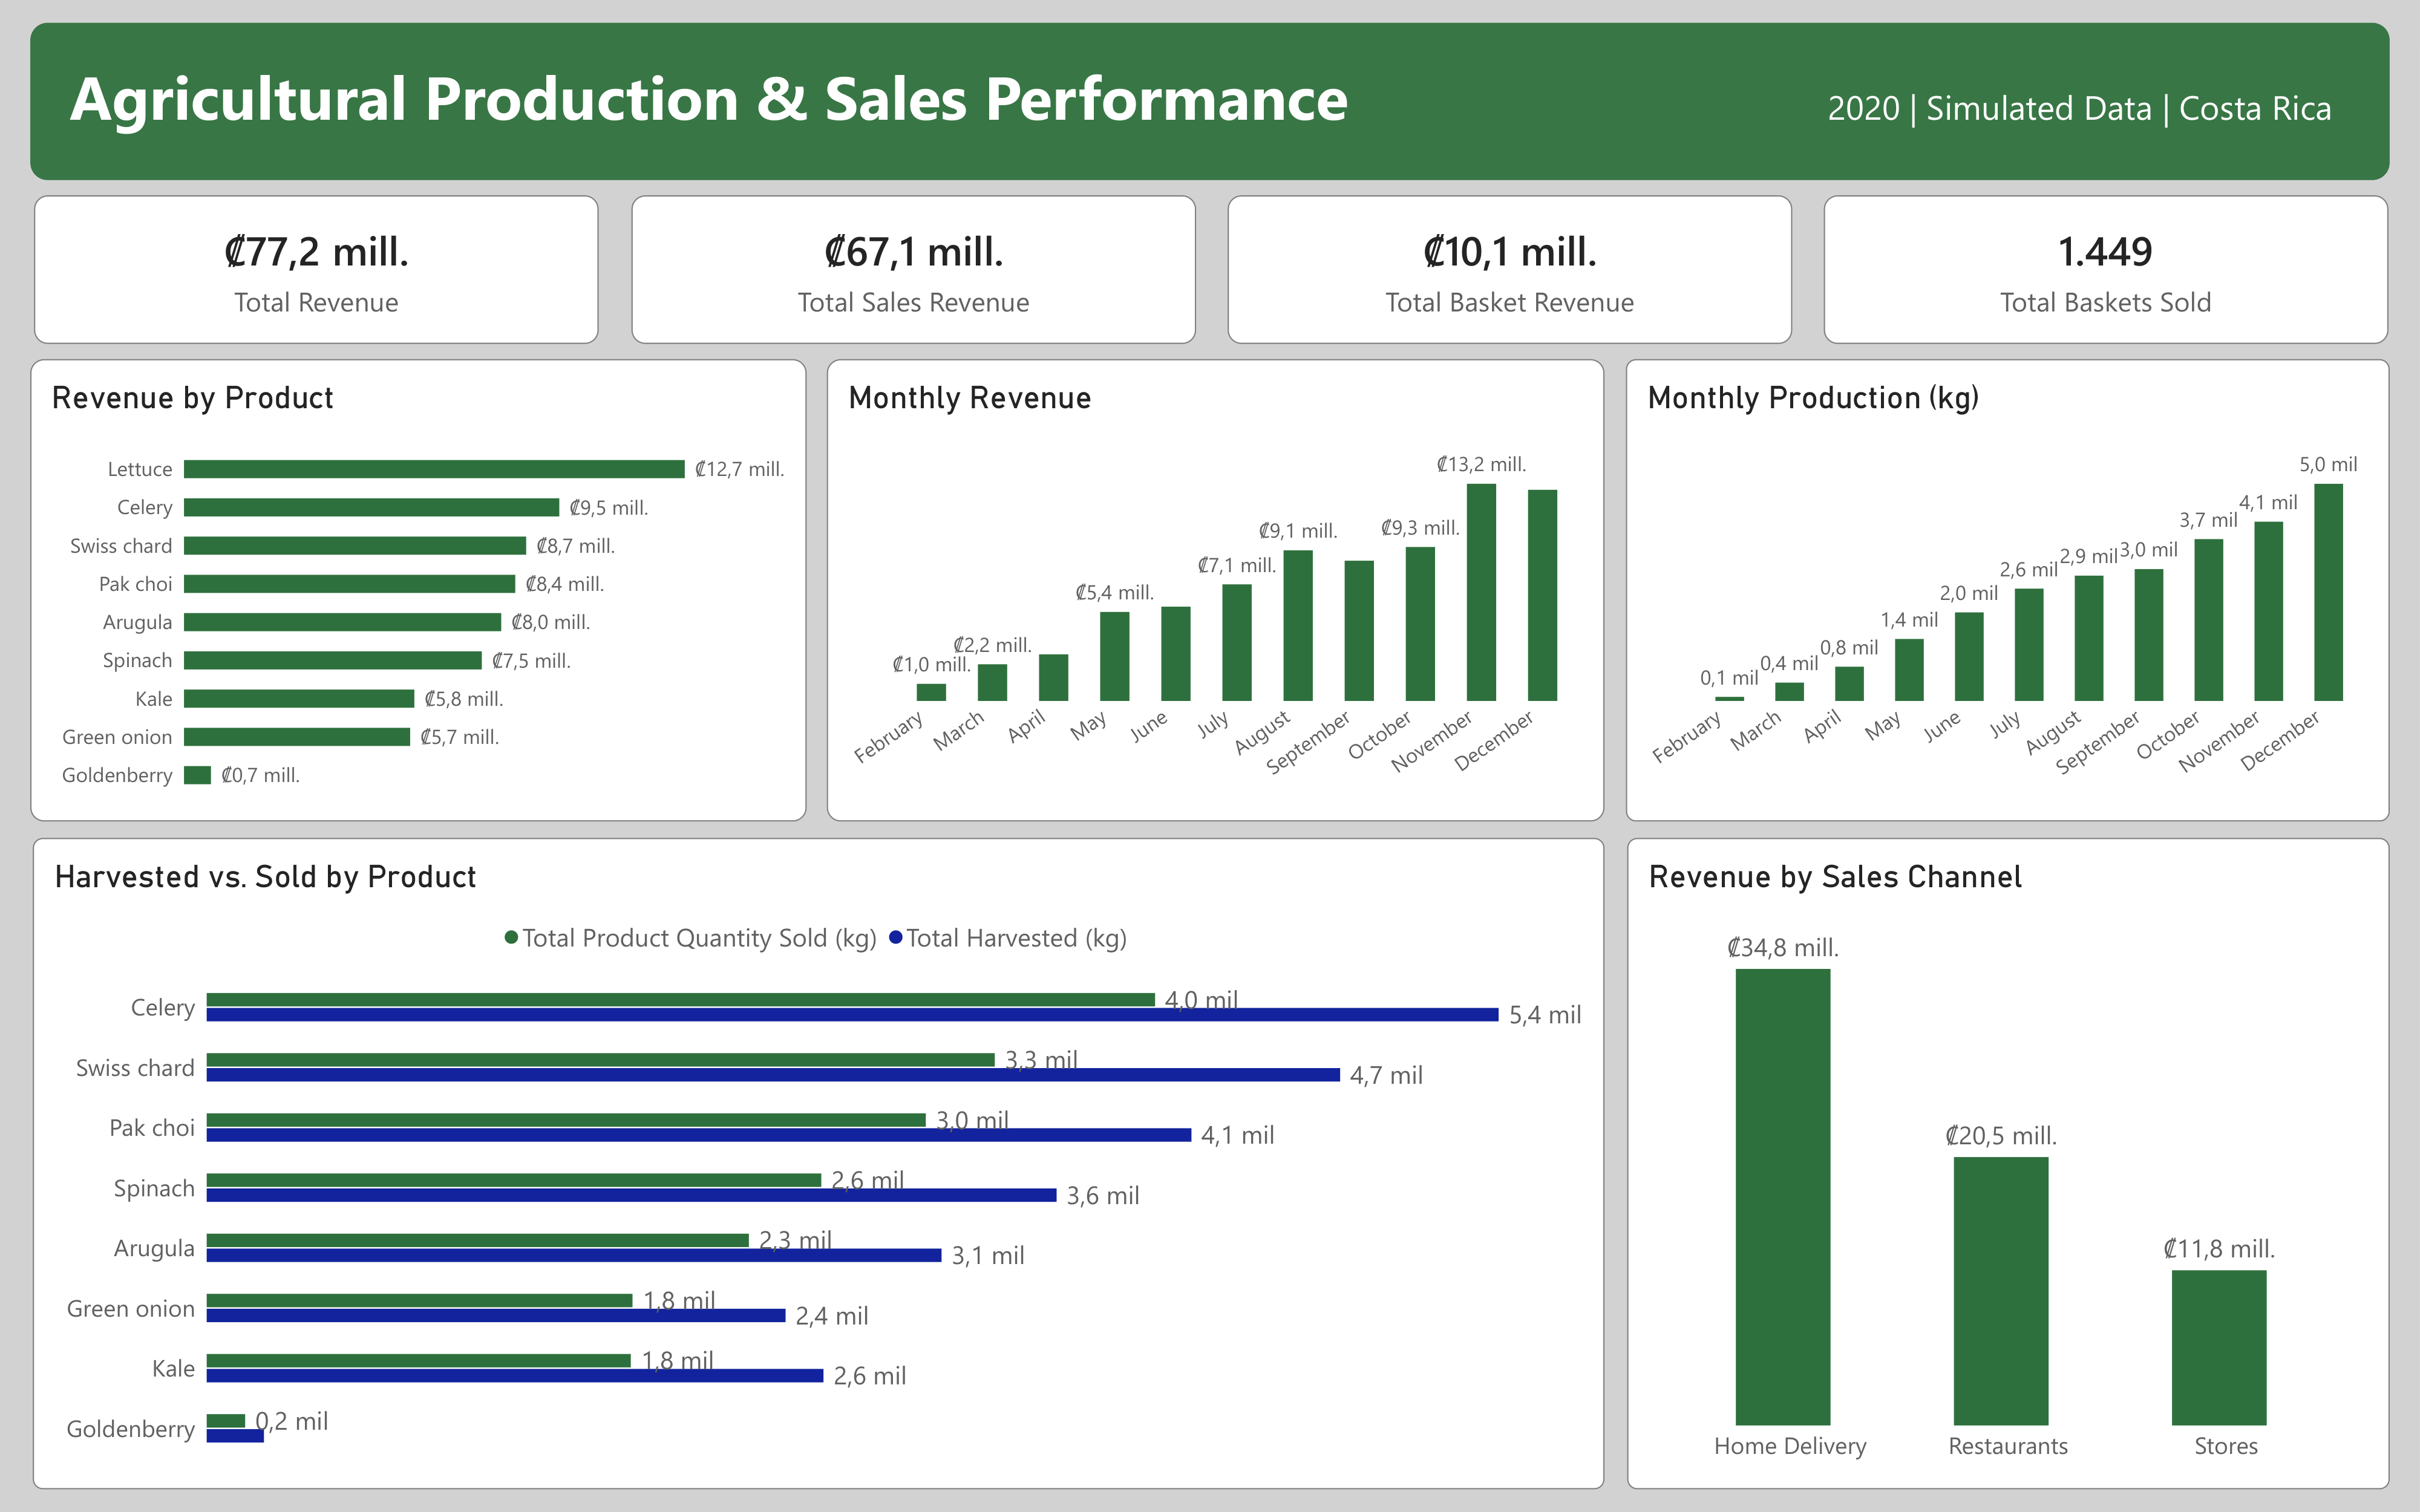

Layout of this report page (visuals, bound fields, positions):
{"tool":"powerbi","page":{"name":"Dashboard","canvas":[1920,1200],"ordinal":0},"visuals":[{"type":"card","fields":{"Values":["Production_2020.Total Revenue"]},"box":[27.4,155,448,118],"z":0},{"type":"card","fields":{"Values":["Production_2020.Total Sales Revenue"]},"box":[500.7,155,448,118],"z":1000},{"type":"card","fields":{"Values":["Production_2020.Total Basket Revenue"]},"box":[973.9,155,448,118],"z":2000},{"type":"card","fields":{"Values":["Production_2020.Total Baskets Sold"]},"box":[1447.2,154.6,448,118],"z":3000},{"type":"clusteredBarChart","title":"Revenue by Product","fields":{"Category":["Products.Product1"],"Y":["Production_2020.Total Sales Revenue"]},"box":[24.4,285.1,615.2,367.4],"z":4000},{"type":"shape","box":[23.8,17.9,1871.7,125],"z":5000},{"type":"textbox","box":[55,43.2,1102.5,72.5],"z":6000},{"type":"clusteredColumnChart","title":"Monthly Revenue","fields":{"Category":["Calendar.Month (English)"],"Y":["Production_2020.Total Revenue"]},"box":[655.9,285.1,617.4,367.4],"z":7000},{"type":"clusteredBarChart","title":"Harvested vs. Sold by Product","fields":{"Category":["Products.Product1"],"Y":["Production_2020.Total Product Quantity Sold (kg)","Production_2020.Total Harvested (kg)"]},"box":[25.5,664.6,1247.5,517.5],"z":8000},{"type":"clusteredColumnChart","title":"Monthly Production (kg) ","fields":{"Category":["Calendar.Month (English)"],"Y":["Production_2020.Total Harvested (kg)"]},"box":[1289.6,285.1,606.5,367.4],"z":9000},{"type":"clusteredColumnChart","title":"Revenue by Sales Channel","fields":{"Category":["Sales_2020_generated.Sales Channel Name"],"Y":["Production_2020.Total Sales Revenue"]},"box":[1290.5,664.6,605,517.5],"z":10000},{"type":"textbox","box":[1450,66,420,50],"z":11000}]}

Visuals, with their boxes in screenshot pixels (x1, y1, x2, y2), scaled from the page's 1920x1200 canvas onto the 2420x1512 screenshot:
card - Production_2020.Total Revenue: x1=34, y1=195, x2=599, y2=344
card - Production_2020.Total Sales Revenue: x1=631, y1=195, x2=1195, y2=344
card - Production_2020.Total Basket Revenue: x1=1228, y1=195, x2=1792, y2=344
card - Production_2020.Total Baskets Sold: x1=1824, y1=195, x2=2389, y2=344
"Revenue by Product" clusteredBarChart: x1=31, y1=359, x2=806, y2=822
shape: x1=30, y1=22, x2=2389, y2=180
textbox: x1=70, y1=54, x2=1459, y2=146
"Monthly Revenue" clusteredColumnChart: x1=826, y1=359, x2=1605, y2=822
"Harvested vs. Sold by Product" clusteredBarChart: x1=32, y1=838, x2=1604, y2=1490
"Monthly Production (kg) " clusteredColumnChart: x1=1626, y1=359, x2=2390, y2=822
"Revenue by Sales Channel" clusteredColumnChart: x1=1627, y1=838, x2=2389, y2=1490
textbox: x1=1828, y1=83, x2=2357, y2=146
